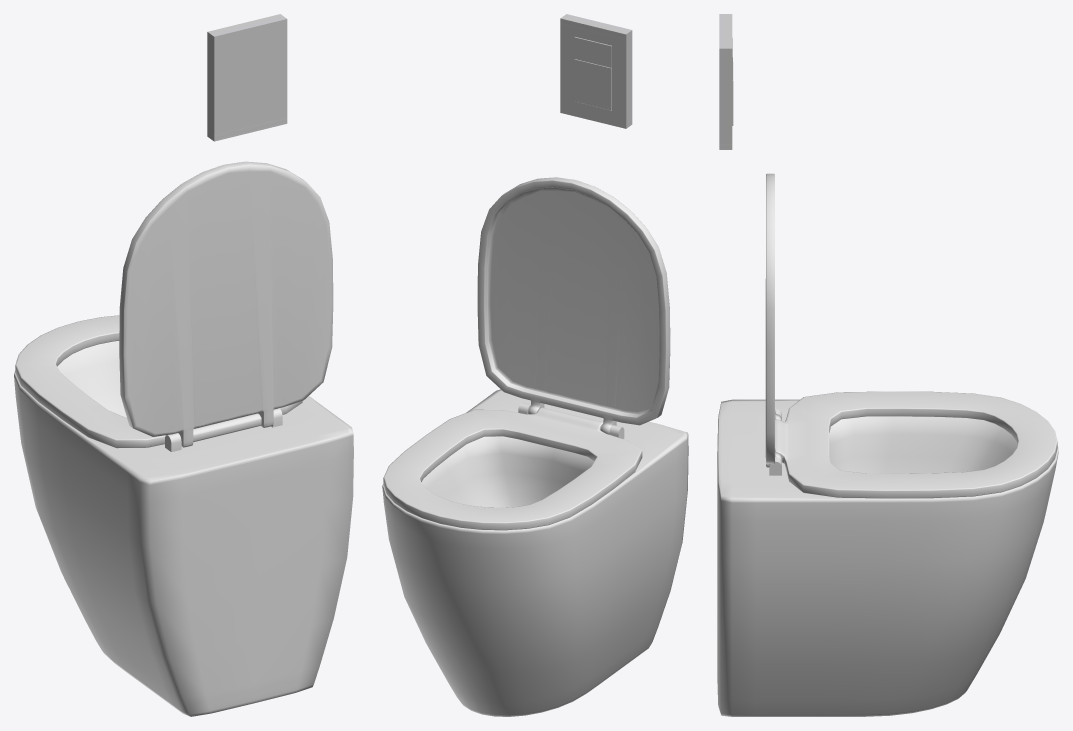
File: Toilet04.glb
3 views of the same model, side by side, from view 1: azimuth 30°, elevation 25°; view 2: azimuth 150°, elevation 25°; view 3: azimuth 270°, elevation 25° (orthographic). The views are drawn at different scales.
Visible parts, largest first — view 1: Toilet04_model, ToieltCover04, ToiletFlushButtonPanel04, ToiletSeat04; view 2: Toilet04_model, ToieltCover04, ToiletSeat04, ToiletFlushButtonPanel04, ToiletFlushButton04; view 3: Toilet04_model, ToiletSeat04, ToieltCover04, ToiletFlushButtonPanel04.
Part boxes in pixels (left/top/right/bottom): Toilet04_model: left=14, top=341, right=353, bottom=716; ToieltCover04: left=119, top=161, right=333, bottom=447; ToiletFlushButtonPanel04: left=207, top=14, right=287, bottom=141; ToiletSeat04: left=15, top=315, right=302, bottom=448; Toilet04_model: left=382, top=389, right=688, bottom=716; ToieltCover04: left=477, top=177, right=670, bottom=434; ToiletSeat04: left=383, top=407, right=642, bottom=530; ToiletFlushButtonPanel04: left=560, top=14, right=632, bottom=128; ToiletFlushButton04: left=574, top=59, right=611, bottom=110; Toilet04_model: left=717, top=399, right=1058, bottom=716; ToiletSeat04: left=775, top=391, right=1057, bottom=498; ToieltCover04: left=765, top=173, right=781, bottom=467; ToiletFlushButtonPanel04: left=719, top=14, right=732, bottom=149.
Bounding box in the file's own units: 0.7637 × 2.32 × 1.1.
Materials: 1 (1 with a texture image).
